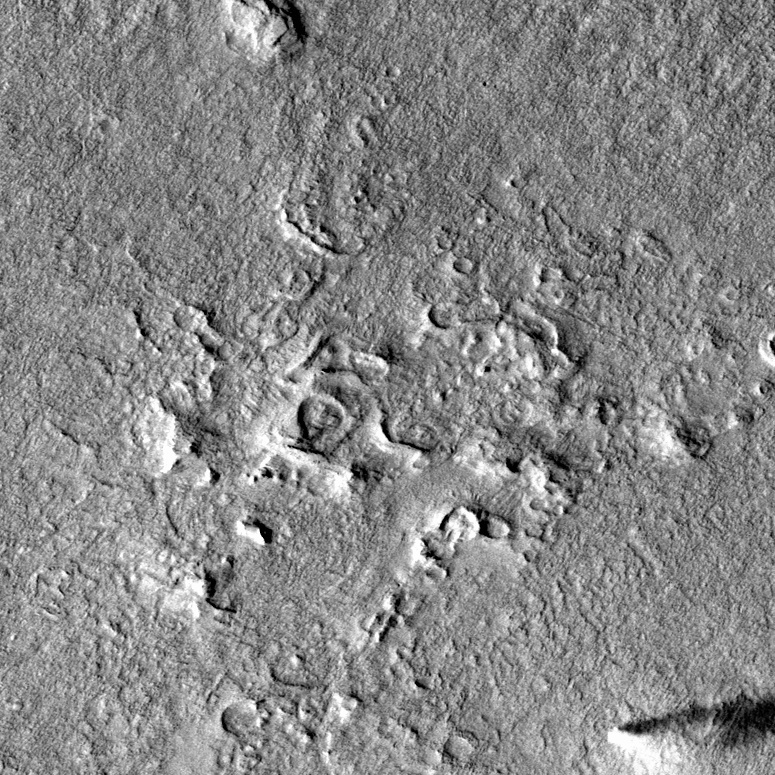dust_devil: (605, 689, 775, 775)
